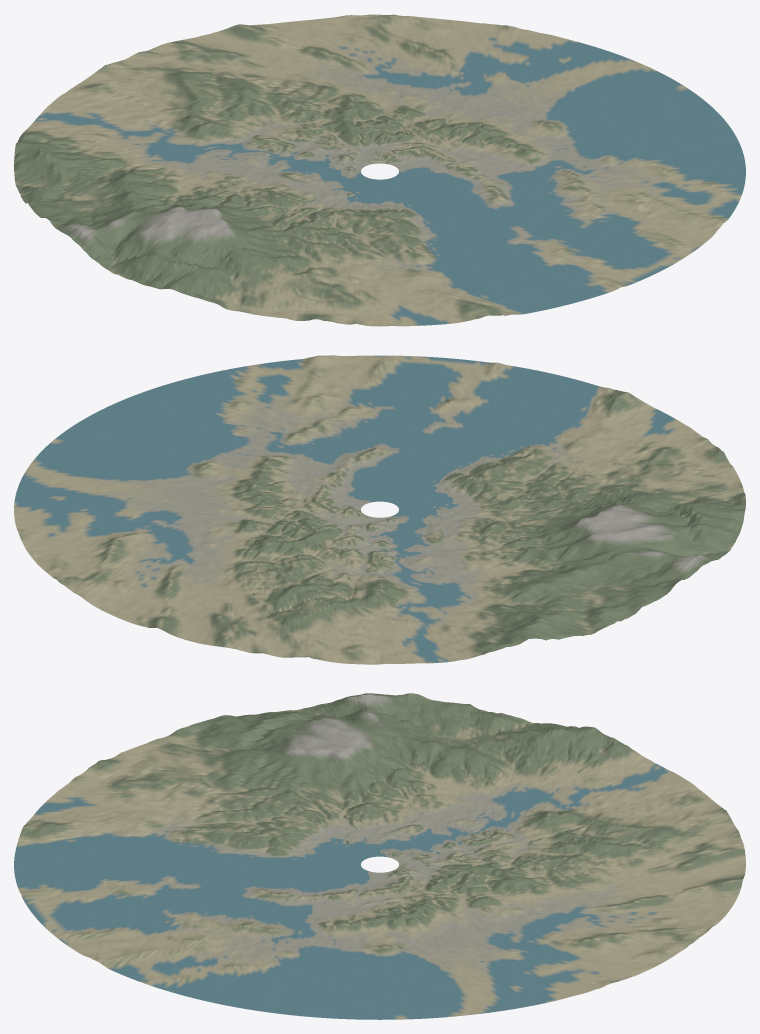
File: bellerive_backdrop.glb
3 renders of one model, top to bottom at view 1: azimuth 30°, elevation 25°; view 2: azimuth 150°, elevation 25°; view 3: azimuth 270°, elevation 25°, orthographic.
Parts seen in each view (by area): view 1: geometry_0; view 2: geometry_0; view 3: geometry_0.
Part boxes in pixels (bbox=[...]): geometry_0: bbox=[14, 14, 745, 326]; geometry_0: bbox=[14, 355, 745, 664]; geometry_0: bbox=[14, 693, 745, 1019].
Bounding box in the file's own units: 38000 × 1271 × 38000.
